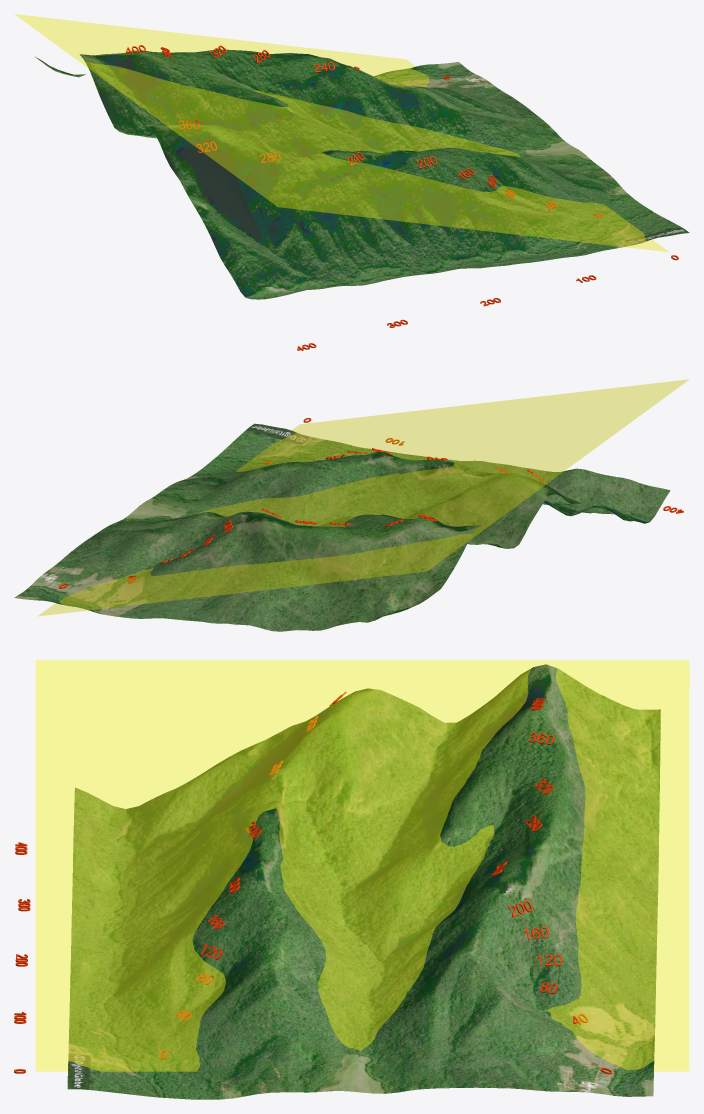
Rendered from RioRastro2a.glb.
The picture shows the model from 3 angles, top to bottom: view 1: azimuth 30°, elevation 25°; view 2: azimuth 150°, elevation 25°; view 3: azimuth 270°, elevation 25°; orthographic projection. The views are drawn at different scales.
Visible parts, largest first — view 1: root; view 2: root; view 3: root.
Part boxes in pixels (x1,y1,x2,y2): root: (15, 14, 689, 350); root: (14, 379, 688, 631); root: (14, 660, 689, 1099).
Bounding box in the file's own units: 2041 × 668 × 2243.
Materials: 4 (1 with a texture image).
